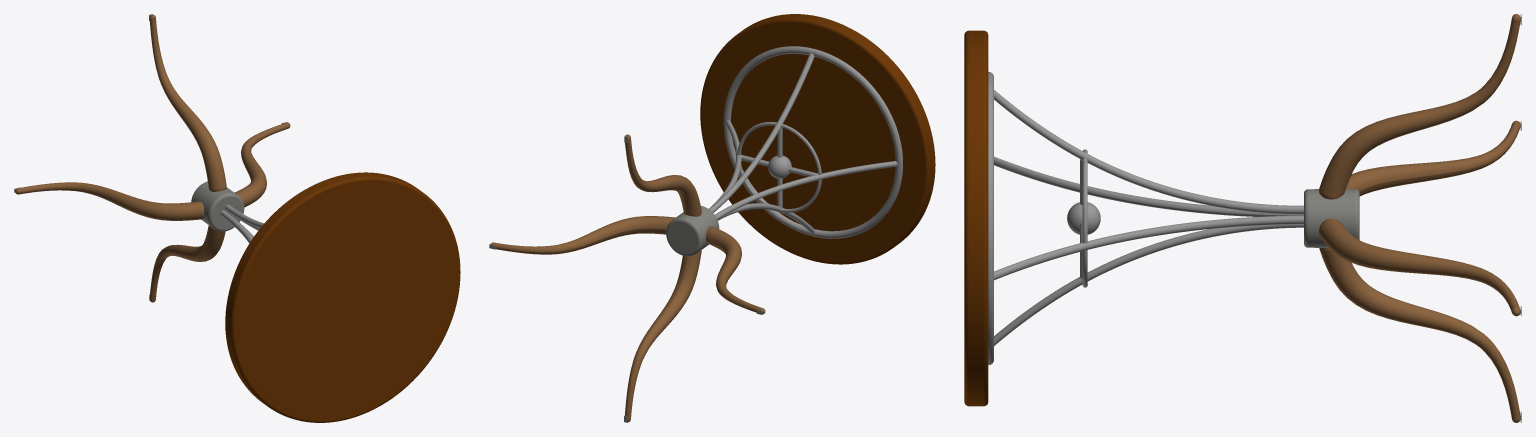
File: CircleTable.fbx
The picture shows the model from 3 angles, left to right: view 1: azimuth 30°, elevation 25°; view 2: azimuth 150°, elevation 25°; view 3: azimuth 270°, elevation 25°; orthographic projection. The views are drawn at different scales.
Visible parts, largest first — view 1: Object_21, Object_16, Object_14, Object_18, Object_20, Object_13; view 2: Object_21, Object_1, Object_13, Object_18, Object_20, Object_14, Object_16, Object_4, Object_5, Object_12, Object_3, Object_6 (+1 smaller); view 3: Object_21, Object_14, Object_18, Object_13, Object_16, Object_5, Object_6, Object_3, Object_4, Object_20, Object_1, Object_12 (+1 smaller).
Part boxes in pixels (box(x1,y1,x2,y2)): Object_21: box(225, 172, 460, 422); Object_16: box(15, 182, 204, 220); Object_14: box(149, 14, 226, 191); Object_18: box(149, 225, 225, 302); Object_20: box(191, 181, 244, 231); Object_13: box(234, 122, 290, 207); Object_21: box(700, 14, 935, 264); Object_1: box(723, 46, 902, 238); Object_13: box(490, 216, 675, 254); Object_18: box(624, 250, 701, 422); Object_20: box(666, 206, 719, 256); Object_14: box(625, 134, 701, 216); Object_16: box(706, 226, 765, 314); Object_4: box(715, 161, 897, 219); Object_5: box(709, 53, 814, 212); Object_12: box(737, 122, 821, 212); Object_3: box(717, 203, 814, 233); Object_6: box(709, 120, 741, 208); Object_21: box(964, 30, 988, 406); Object_14: box(1319, 14, 1520, 199); Object_18: box(1319, 248, 1520, 422); Object_13: box(1319, 218, 1520, 316); Object_16: box(1346, 120, 1520, 196); Object_5: box(994, 90, 1303, 214); Object_6: box(994, 215, 1303, 280); Object_3: box(994, 224, 1303, 345); Object_4: box(994, 156, 1303, 216); Object_20: box(1304, 189, 1359, 247); Object_1: box(988, 71, 993, 365); Object_12: box(1082, 149, 1087, 287).
Size of the model in its own units: 52.64 by 52.64 by 65.13.
